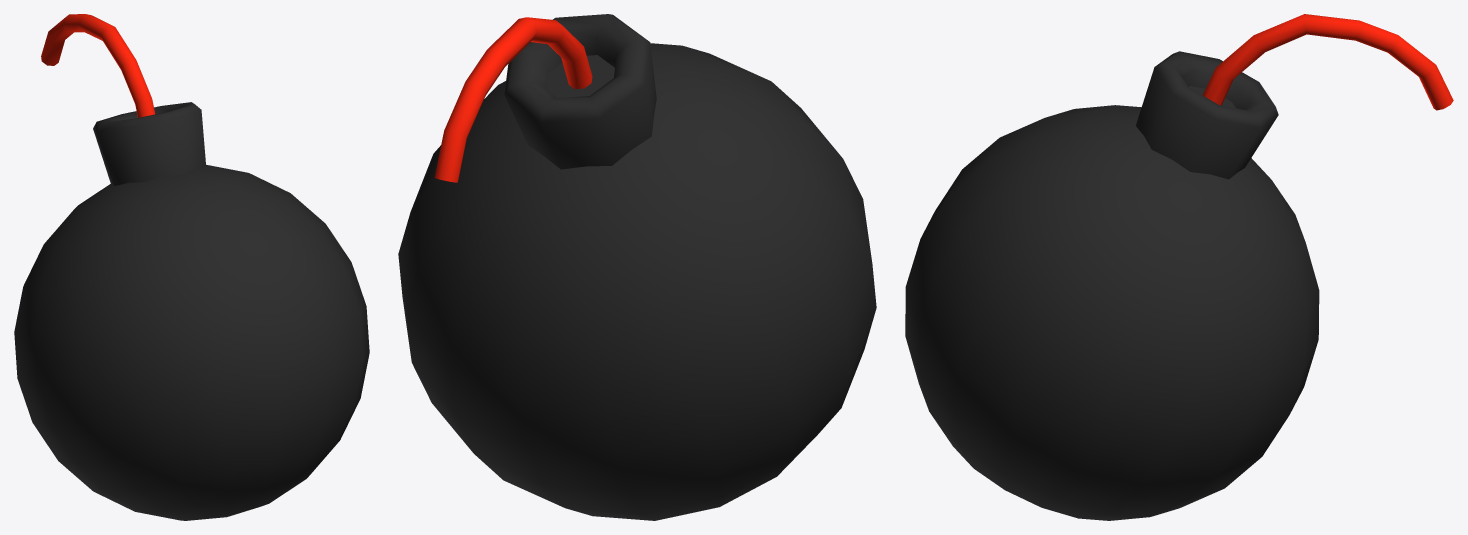
Rendered from bomp.fbx.
3 renders of one model, left to right at view 1: azimuth 30°, elevation 25°; view 2: azimuth 150°, elevation 25°; view 3: azimuth 270°, elevation 25°, orthographic. The views are drawn at different scales.
Visible parts, largest first — view 1: Bomb; view 2: Bomb; view 3: Bomb.
Boxes of the visible parts, x1,y1,x2,y2 form: Bomb: [14, 14, 369, 520]; Bomb: [398, 14, 876, 520]; Bomb: [905, 14, 1453, 520].
Bounding box in the file's own units: 119 × 154 × 157.
